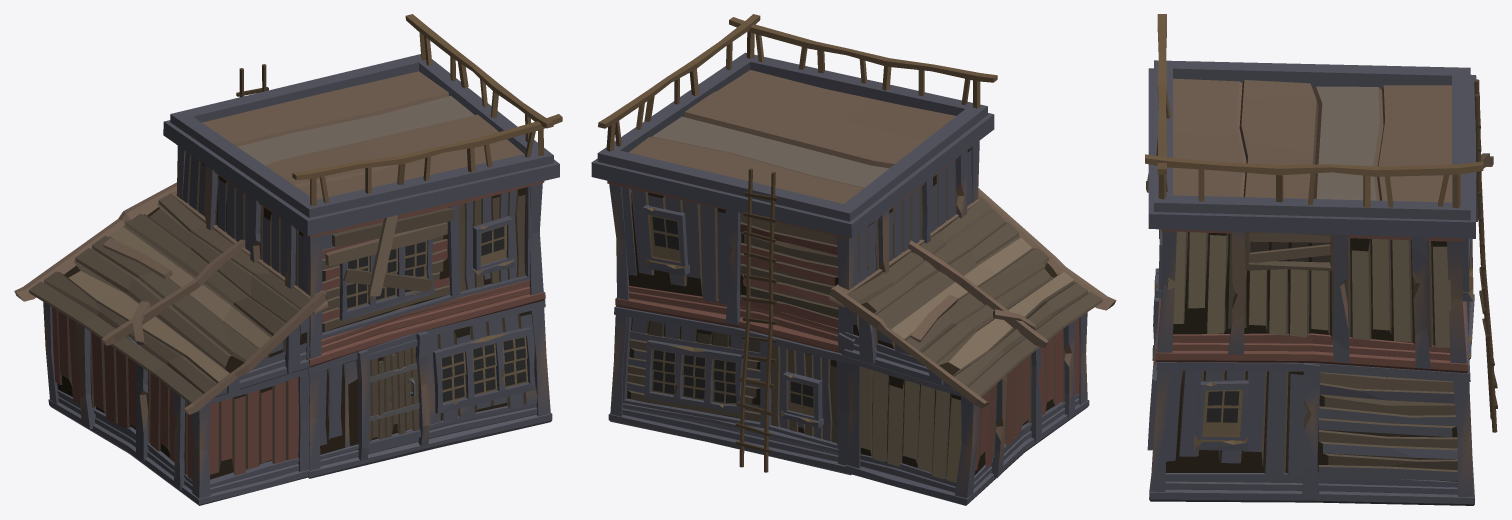
File: SM_Bld_Shanty_Preset_01.glb
3 views of the same model, side by side, from view 1: azimuth 30°, elevation 25°; view 2: azimuth 150°, elevation 25°; view 3: azimuth 270°, elevation 25° (orthographic). The views are drawn at different scales.
Parts seen in each view (by area): view 1: SM_Bld_Shanty_Preset_01; view 2: SM_Bld_Shanty_Preset_01; view 3: SM_Bld_Shanty_Preset_01.
Boxes of the visible parts, <box> form: SM_Bld_Shanty_Preset_01: <box>14,14,562,505</box>; SM_Bld_Shanty_Preset_01: <box>591,14,1116,505</box>; SM_Bld_Shanty_Preset_01: <box>1145,14,1497,505</box>.
Size of the model in its own units: 0.0876 by 0.0648 by 0.0581.
